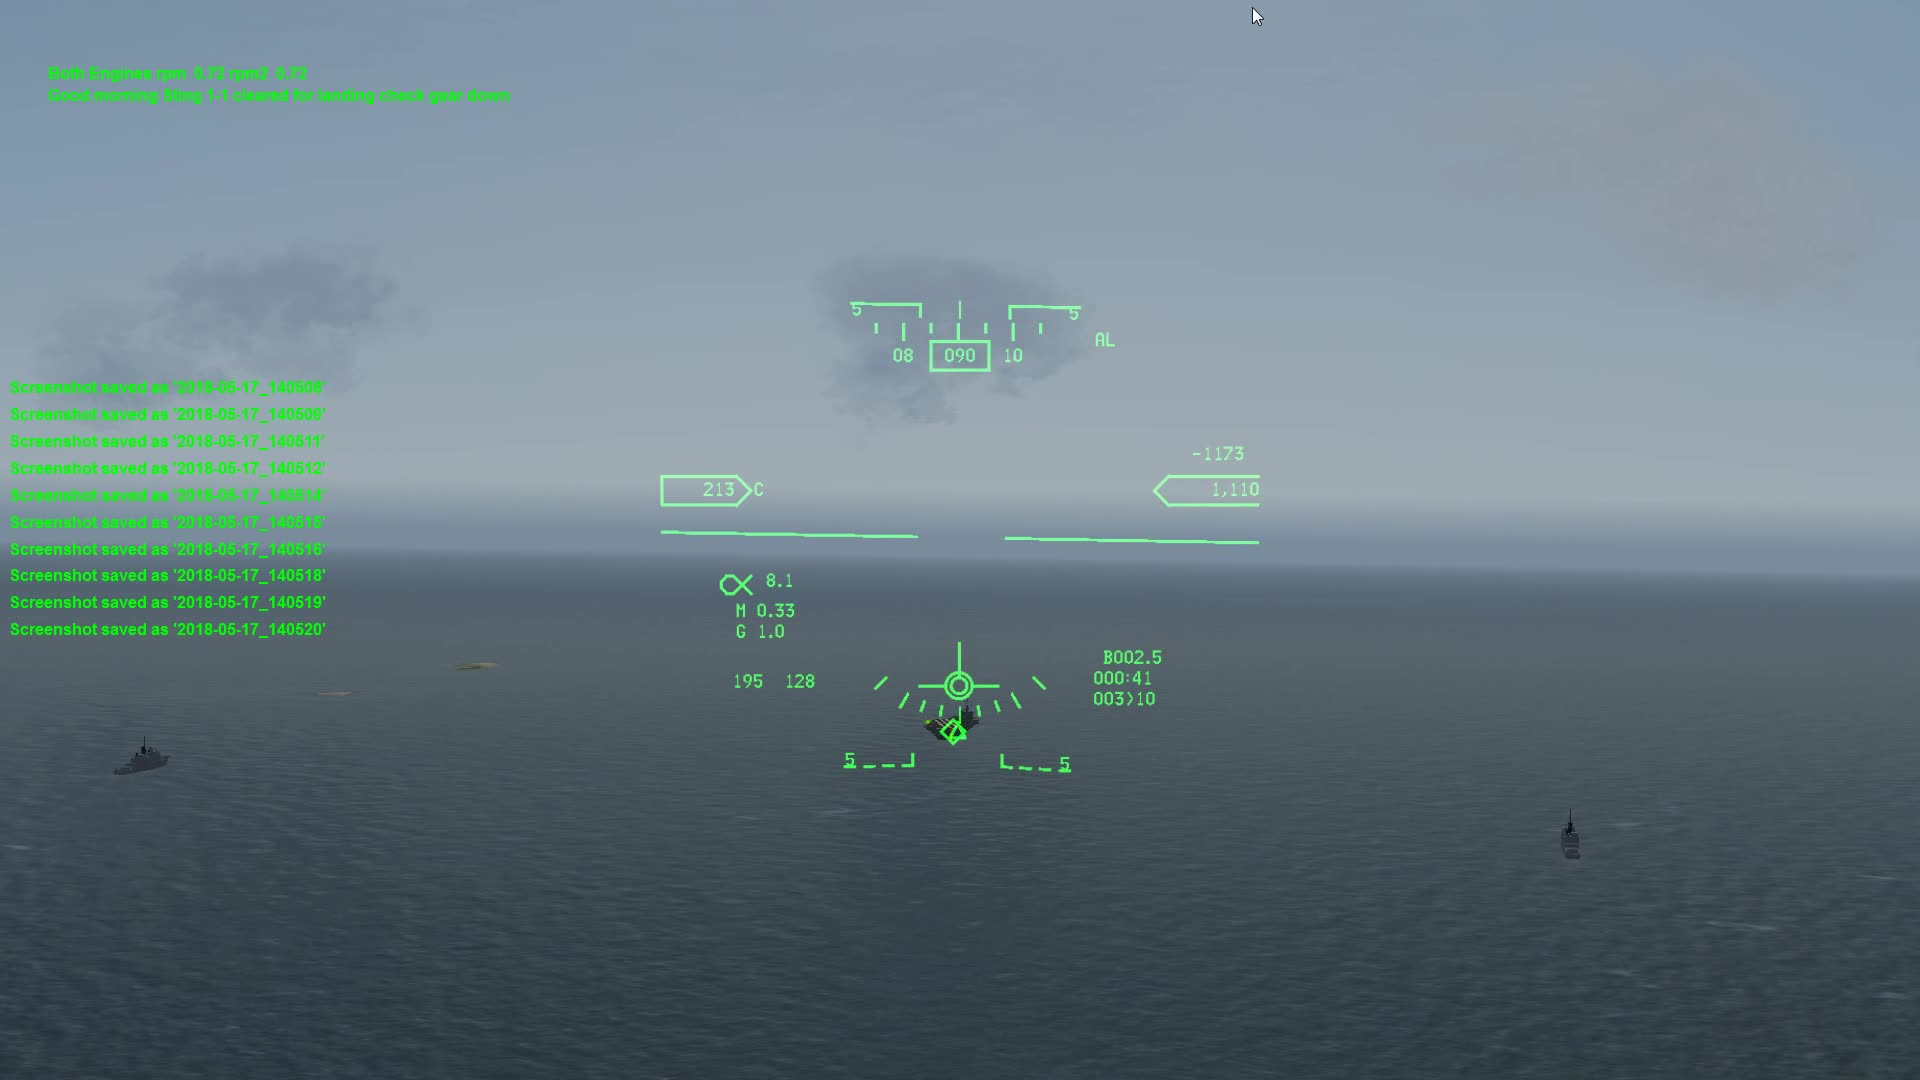speed vector: (910, 644, 993, 713)
